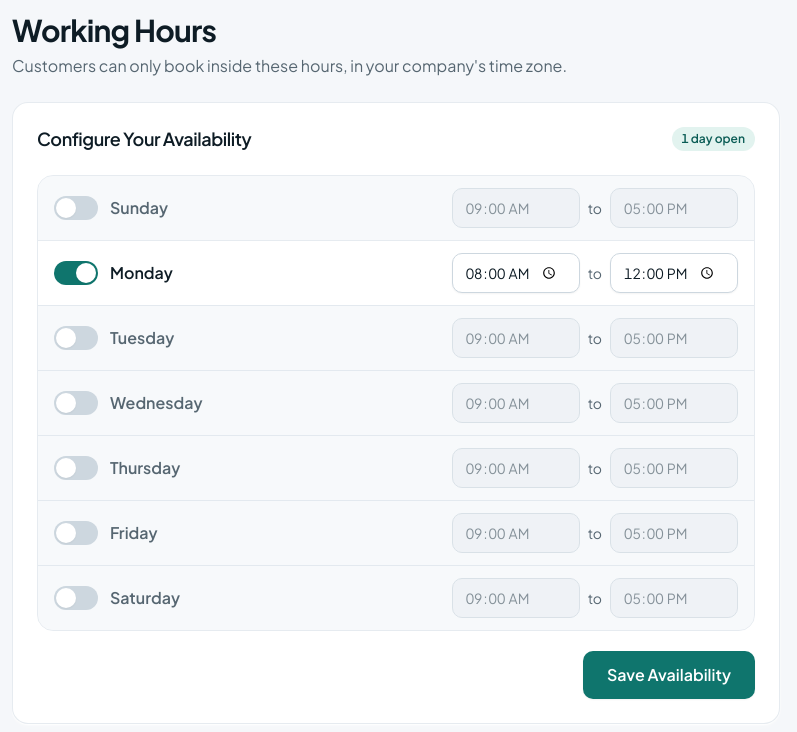
Test: WorkingHoursForm › enables the time inputs only for open days
This screenshot has width=797, height=732.
Expected: the time field named "Monday start" is enabled, 452,253 -> 580,293
Expected: the time field named "Tuesday start" is disabled, 452,318 -> 580,358
What coordinates should you click on to do the following:
click the checkbox named "Tuesday open"
I would click on:
 (76, 338)
Its box is 54,326 -> 98,350.
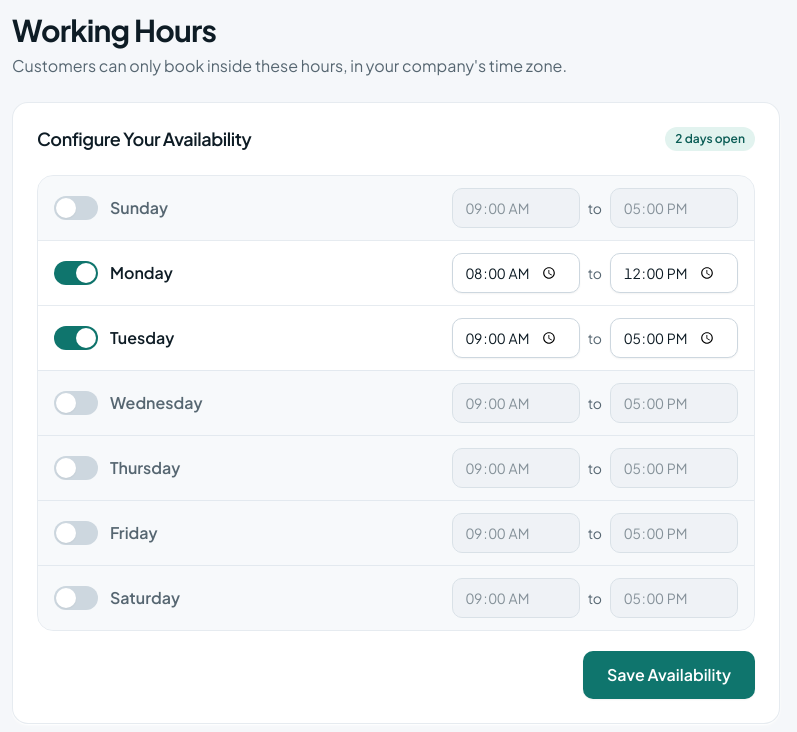
Expected: the time field named "Tuesday start" is enabled, 452,318 -> 580,358
Expected: the time field named "Tuesday end" is enabled, 610,318 -> 738,358
